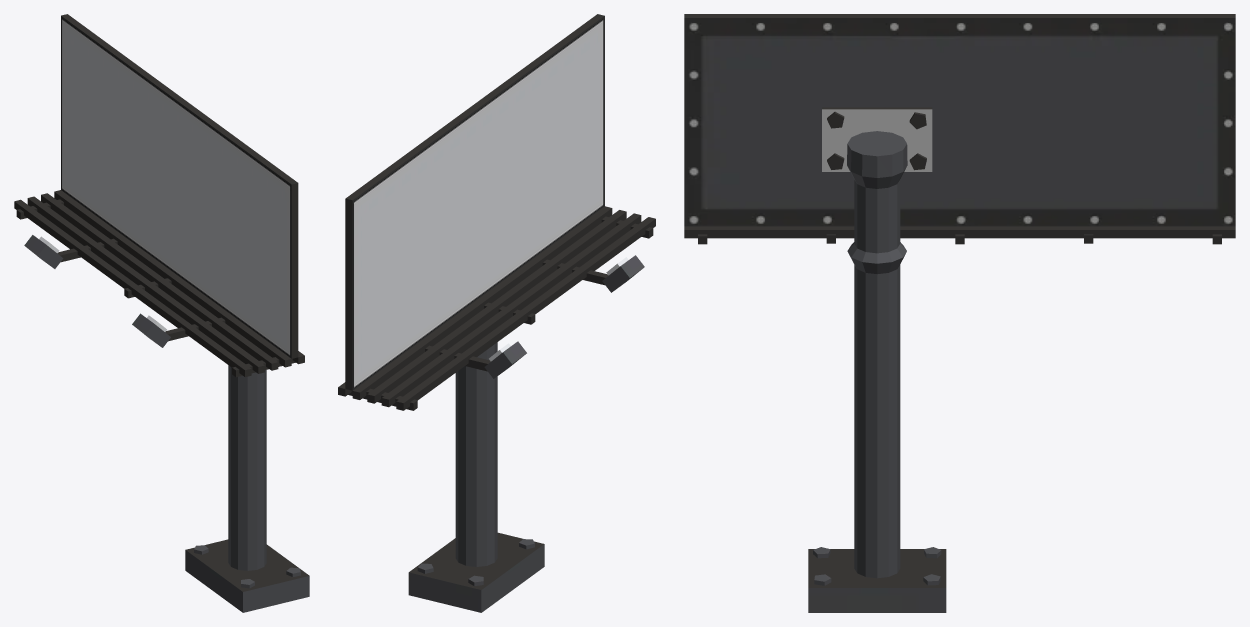
Rendered from billboard.glb.
The picture shows the model from 3 angles, left to right: view 1: azimuth 30°, elevation 25°; view 2: azimuth 150°, elevation 25°; view 3: azimuth 270°, elevation 25°; orthographic projection. The views are drawn at different scales.
Visible parts, largest first — view 1: b; view 2: b; view 3: b.
Part boxes in pixels (left/top/right/bottom): b: left=14, top=14, right=309, bottom=612; b: left=338, top=14, right=655, bottom=612; b: left=684, top=14, right=1235, bottom=612.
Size of the model in its own units: 242 by 670 by 600.
1 material, 1 textured.
